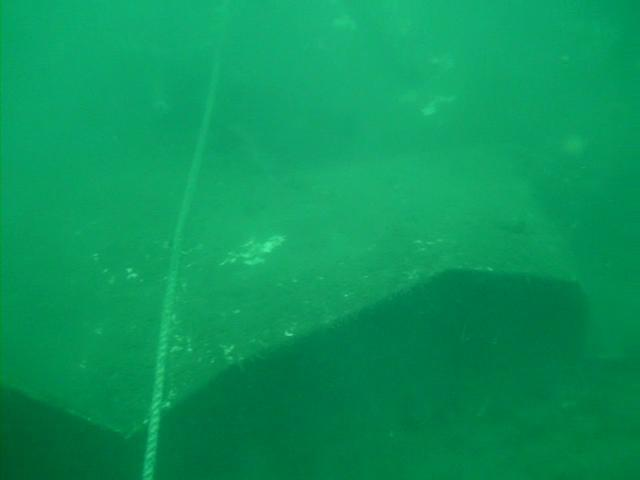rope: (142, 51, 221, 480)
